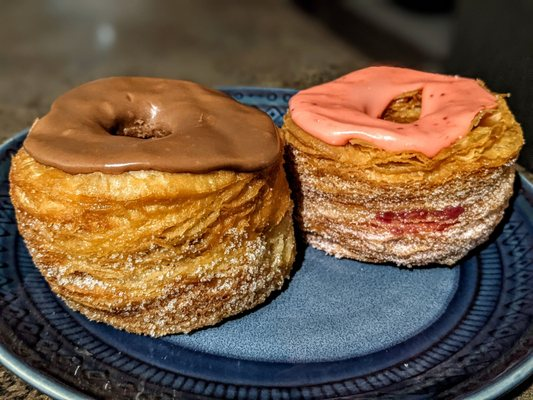salad: (7, 76, 296, 338)
sushi: (9, 77, 297, 337), (281, 66, 525, 268)
